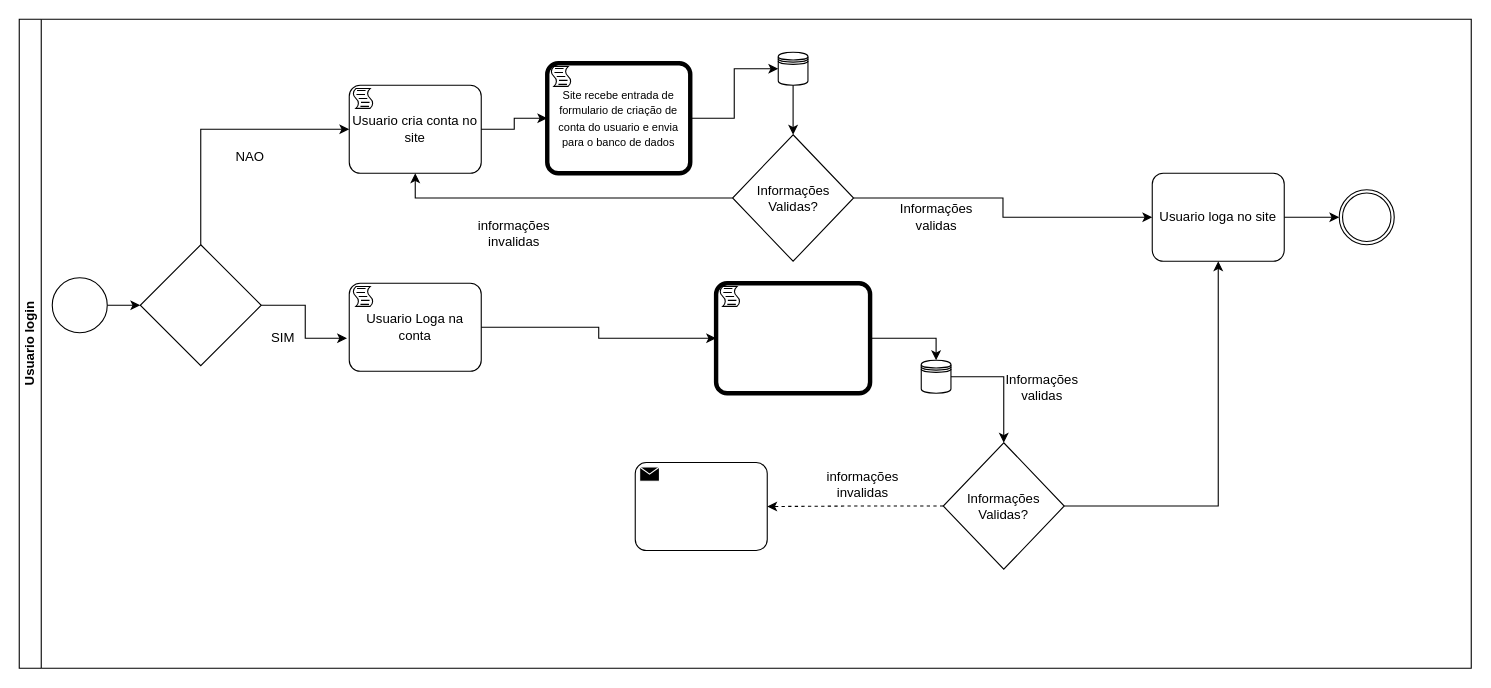
Image size: 1491x688. Some labels were removed from this diagram. The shapes that lost their labels are listed below. From the top down, each one's box as (x1, y1, x2, y2) in pixels, then its label:
(139, 244, 261, 366): Usuario tem conta?
(715, 282, 870, 393): site recebe entrada do usuario e verifica se esta de fato cadastrado no banco
(634, 461, 767, 551): Usuario recebe mensagem avisando que as informações são invalidas
